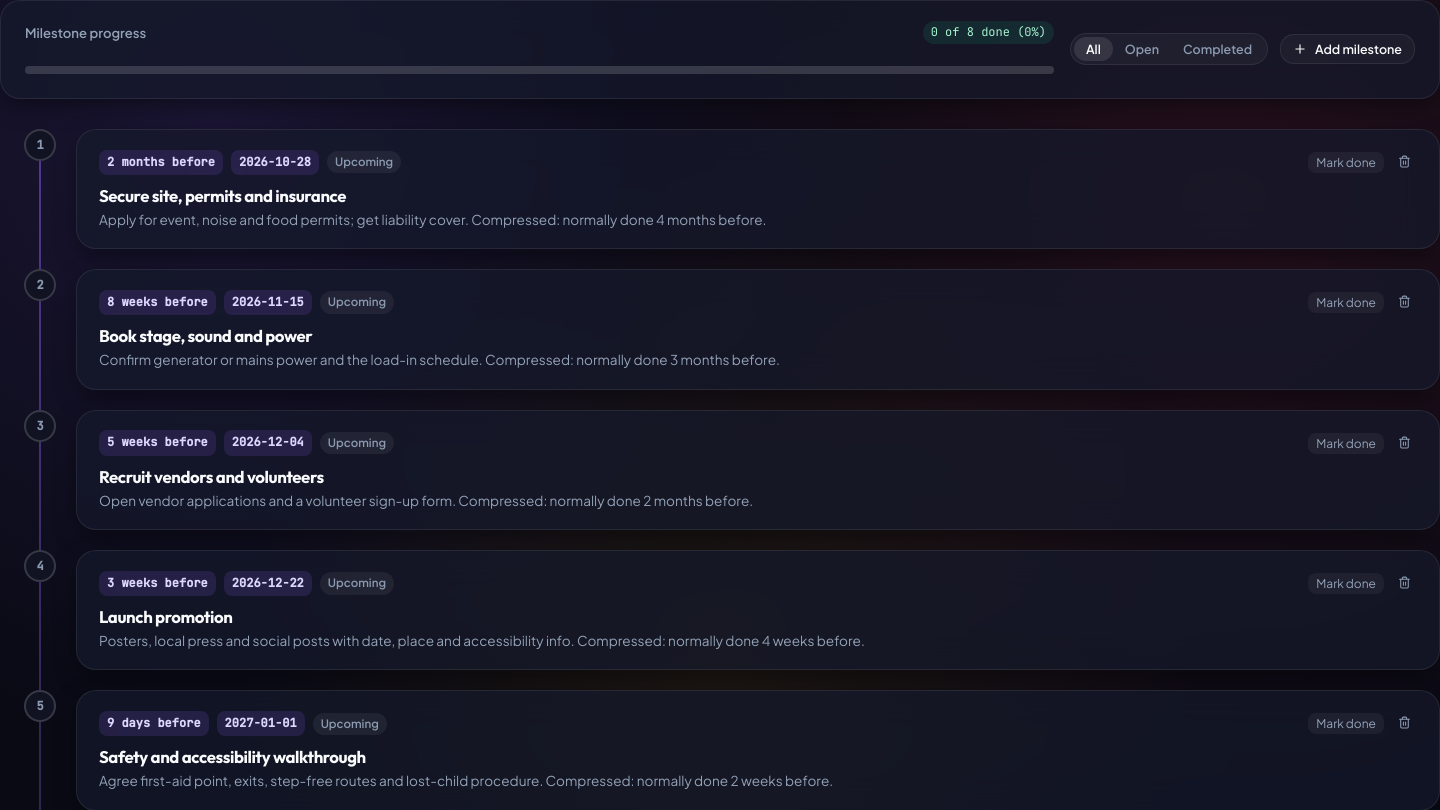
Test case: TimelinePlanner › shows an empty state when no milestone matches the filter
The image size is (1440, 810).
Click the button "Completed" at (1218, 49), box [1171,37,1264,61]
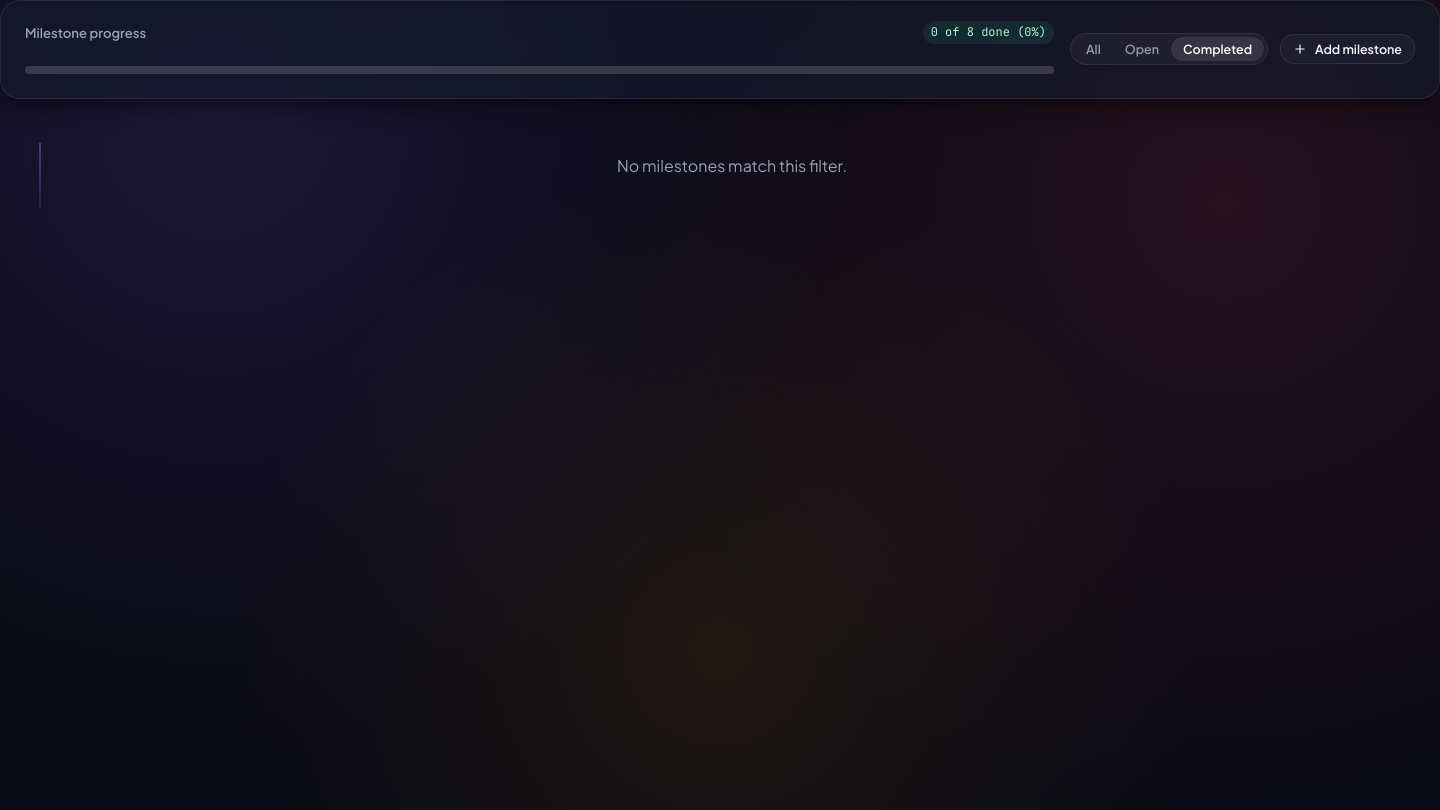
Expected: the text "No milestones match this filter." is shown, [617,155,847,176]
